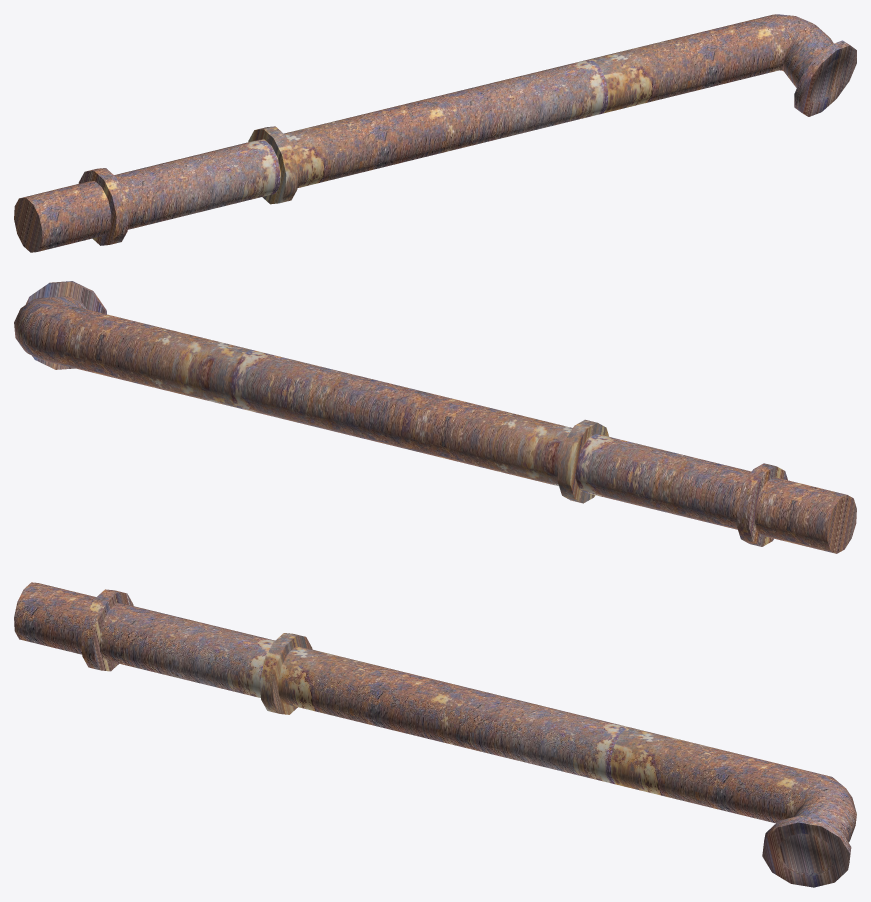
The model's file is Pipe.FBX.
3 views of the same model, one above another, from view 1: azimuth 30°, elevation 25°; view 2: azimuth 150°, elevation 25°; view 3: azimuth 330°, elevation 25° (orthographic). The views are drawn at different scales.
Visible parts, largest first — view 1: pipes001; view 2: pipes001; view 3: pipes001.
Boxes of the visible parts, <box> form: pipes001: <box>14,14,856,252</box>; pipes001: <box>14,281,856,553</box>; pipes001: <box>14,582,856,887</box>.
Bounding box in the file's own units: 2.66 × 0.2928 × 0.3471.
1 material, 1 textured.
